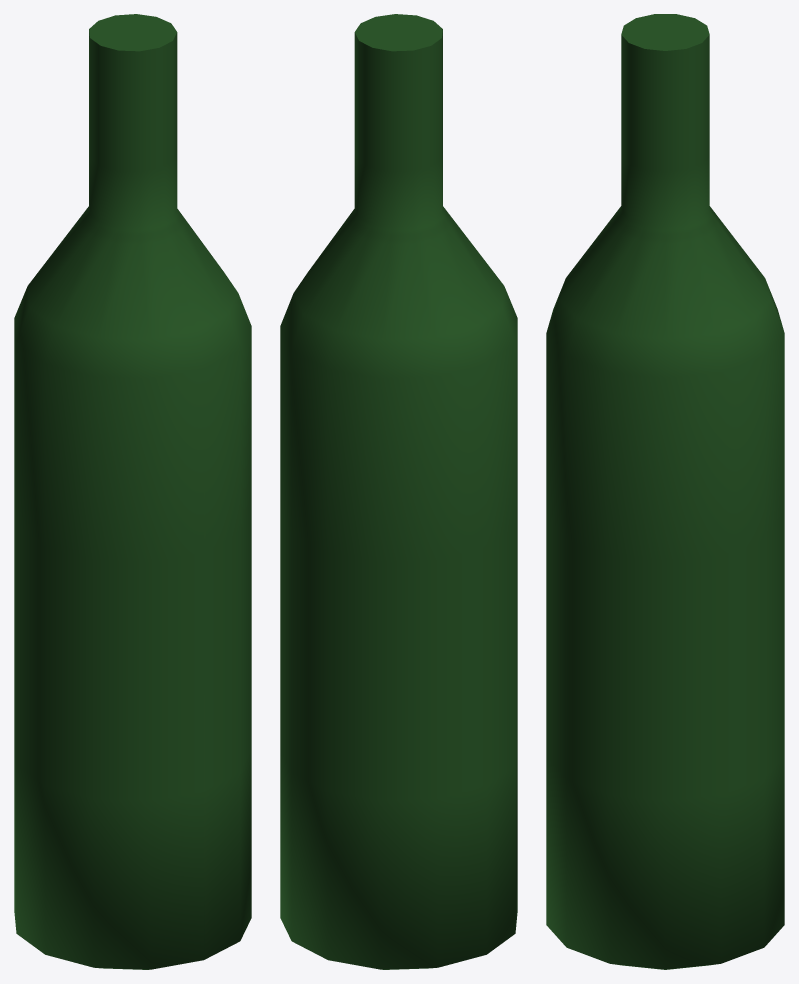
File: Bottle_Wine2.fbx
3 views of the same model, side by side, from view 1: azimuth 30°, elevation 25°; view 2: azimuth 150°, elevation 25°; view 3: azimuth 270°, elevation 25° (orthographic).
Parts seen in each view (by area): view 1: Bottle_Wine2; view 2: Bottle_Wine2; view 3: Bottle_Wine2.
Boxes of the visible parts, left/top/right/bottom form: Bottle_Wine2: left=14, top=14, right=251, bottom=969; Bottle_Wine2: left=280, top=14, right=517, bottom=969; Bottle_Wine2: left=546, top=14, right=784, bottom=969.
Bounding box in the file's own units: 7.64 × 31.96 × 7.69.
